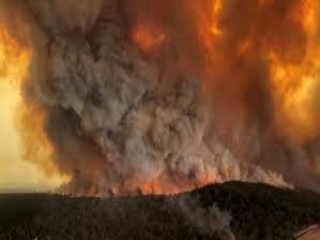fire: (131, 179, 215, 198)
smoke: (40, 21, 312, 198)
